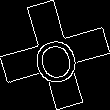O_N: (28, 25, 82, 85)
